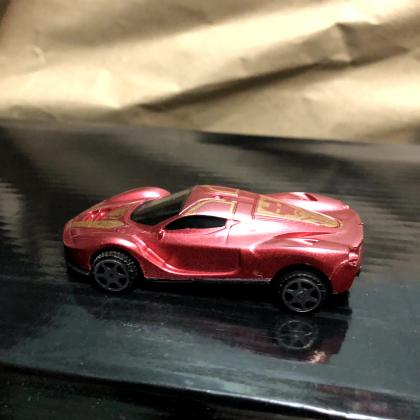Car: (61, 185, 365, 315)
